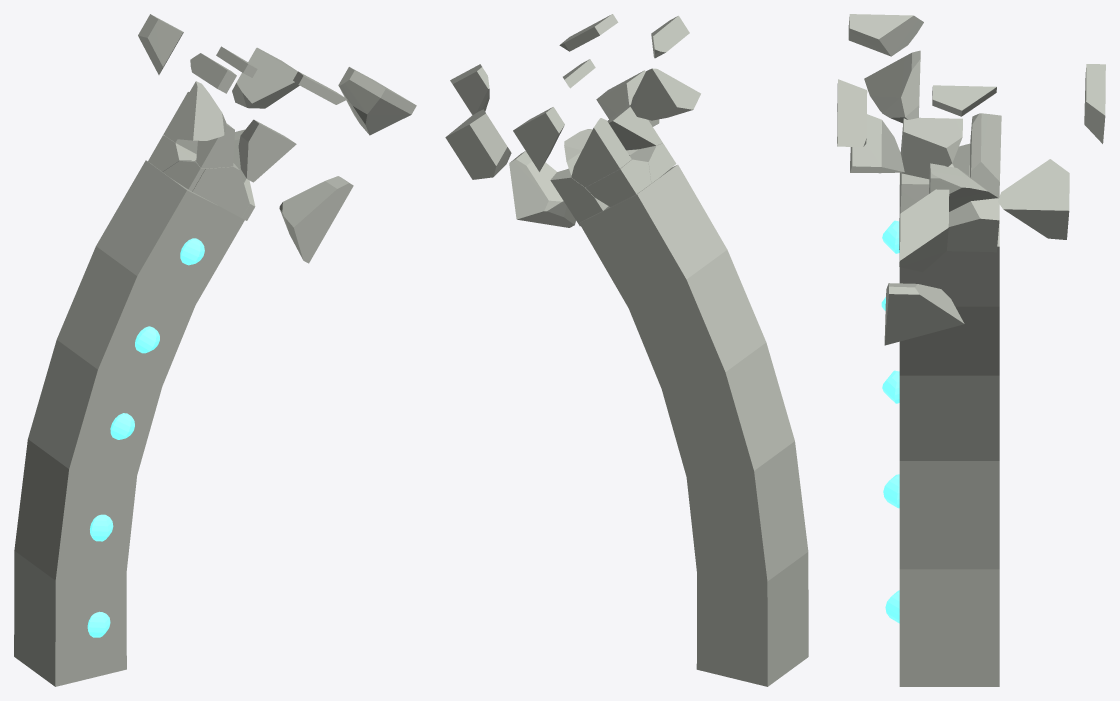
The model's file is Ruine_6.fbx.
3 renders of one model, left to right at view 1: azimuth 30°, elevation 25°; view 2: azimuth 150°, elevation 25°; view 3: azimuth 270°, elevation 25°, orthographic. The views are drawn at different scales.
Parts seen in each view (by area): view 1: Ruine 6 - 7; view 2: Ruine 6 - 7; view 3: Ruine 6 - 7.
Part boxes in pixels (x1,y1,x2,y2): Ruine 6 - 7: [14, 14, 416, 686]; Ruine 6 - 7: [445, 14, 808, 686]; Ruine 6 - 7: [837, 14, 1105, 686].
Bounding box in the file's own units: 331 × 521 × 176.
